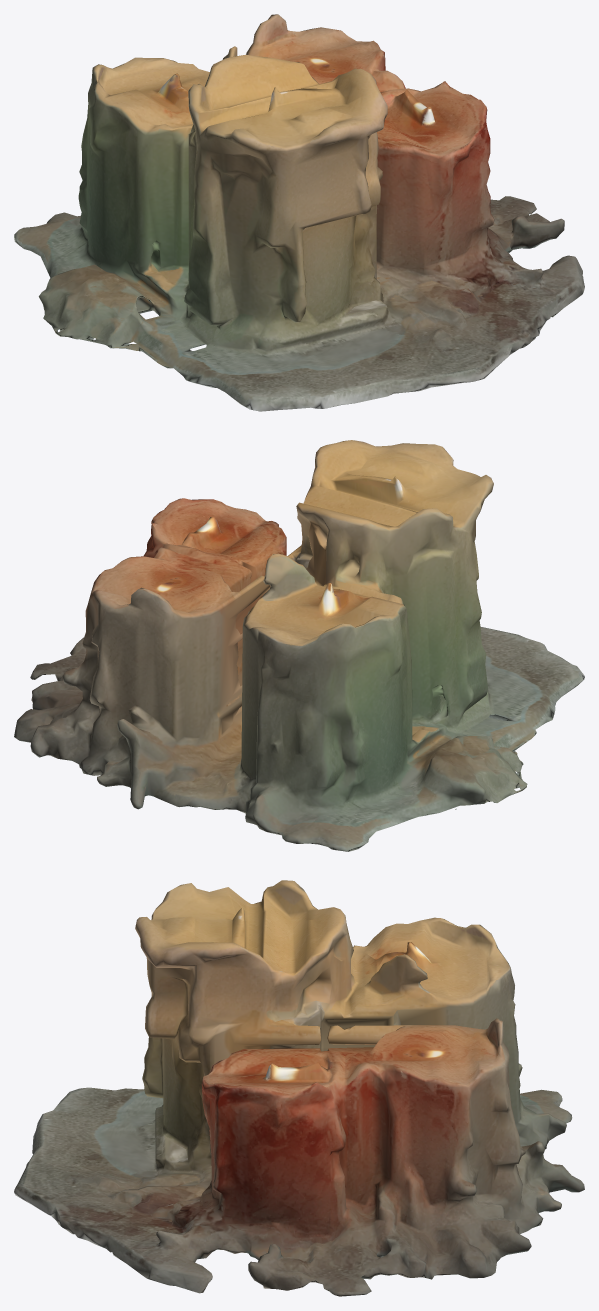
Rendered from grave_candles.glb.
3 views of the same model, one above another, from view 1: azimuth 30°, elevation 25°; view 2: azimuth 150°, elevation 25°; view 3: azimuth 270°, elevation 25° (orthographic). The views are drawn at different scales.
Bounding box in the file's own units: 0.9939 × 0.4786 × 0.9989.
1 material, 1 textured.
